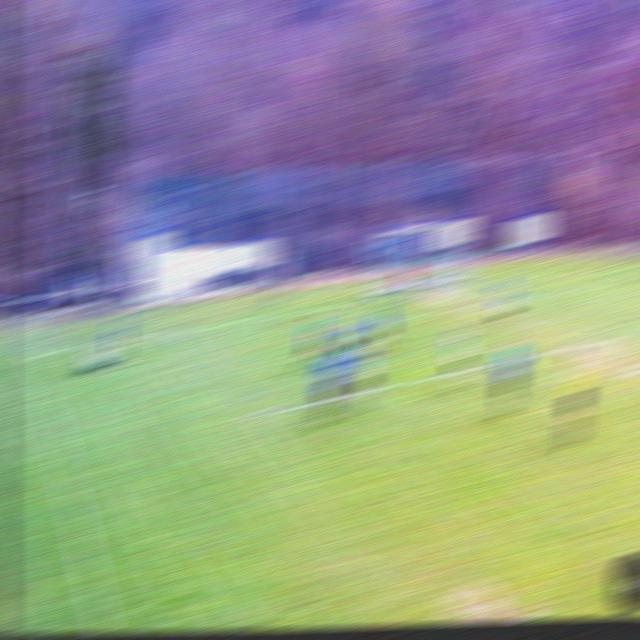bigarea_bottom_inner: (246, 395, 277, 433)
bigarea_bottom_outter: (164, 320, 189, 342)
bigarea_top_outter: (603, 262, 626, 279)
corner: (23, 343, 49, 366)
smallarea_bottom_inner: (352, 316, 373, 333)
smallarea_bottom_outter: (318, 298, 341, 316)
smallarea_top_inner: (547, 285, 570, 305)
smallarea_top_outter: (506, 275, 525, 287)
